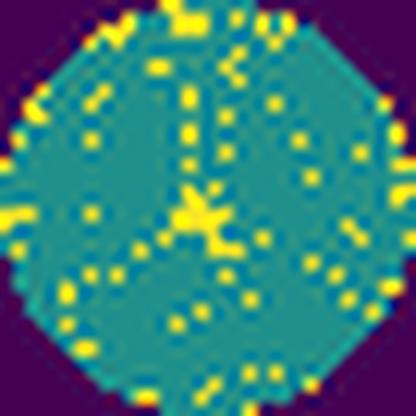Center: (166, 179, 254, 271)
